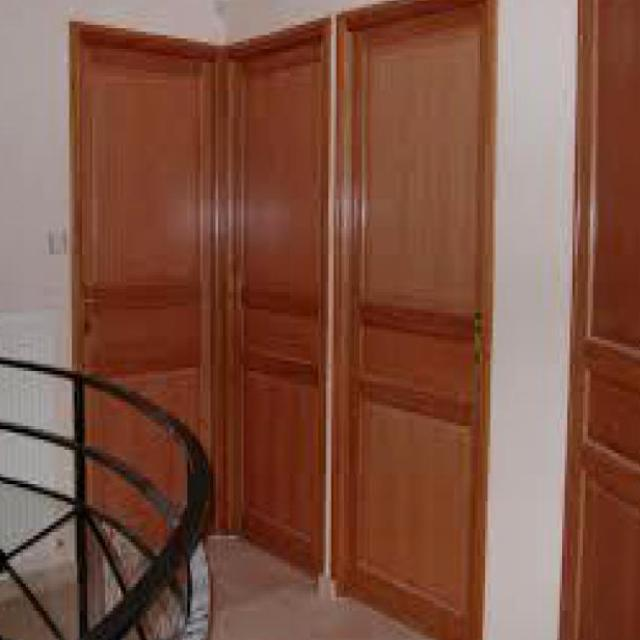Door: (338, 2, 501, 640), (227, 15, 331, 586)
